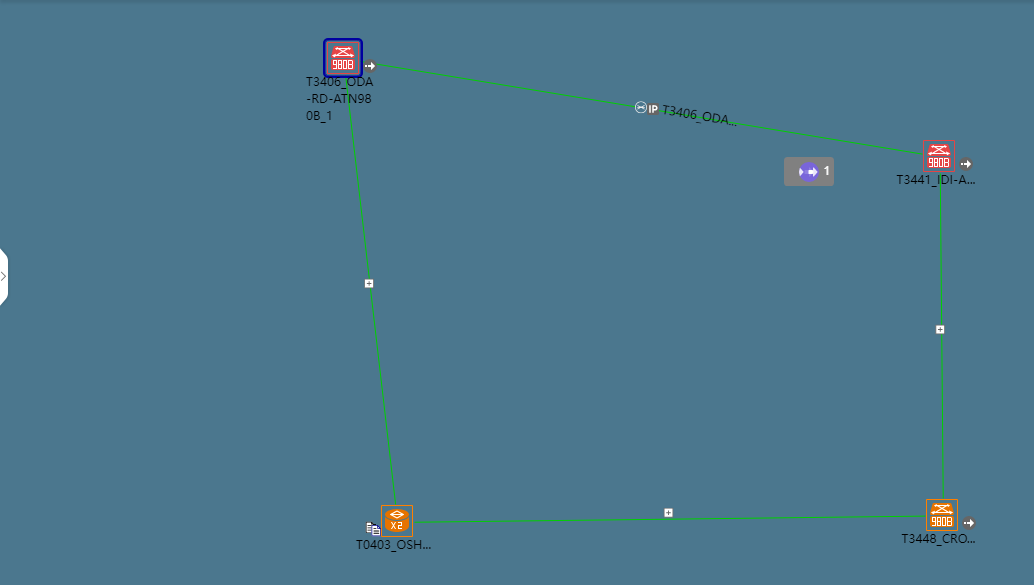ATN_Orange: (927, 503, 958, 533)
ATN_Red: (921, 141, 952, 170), (326, 44, 355, 74)
Link_Green: (365, 57, 926, 158), (346, 99, 402, 507), (934, 173, 945, 498), (475, 515, 727, 527)
Router_Orange: (385, 509, 415, 540)
